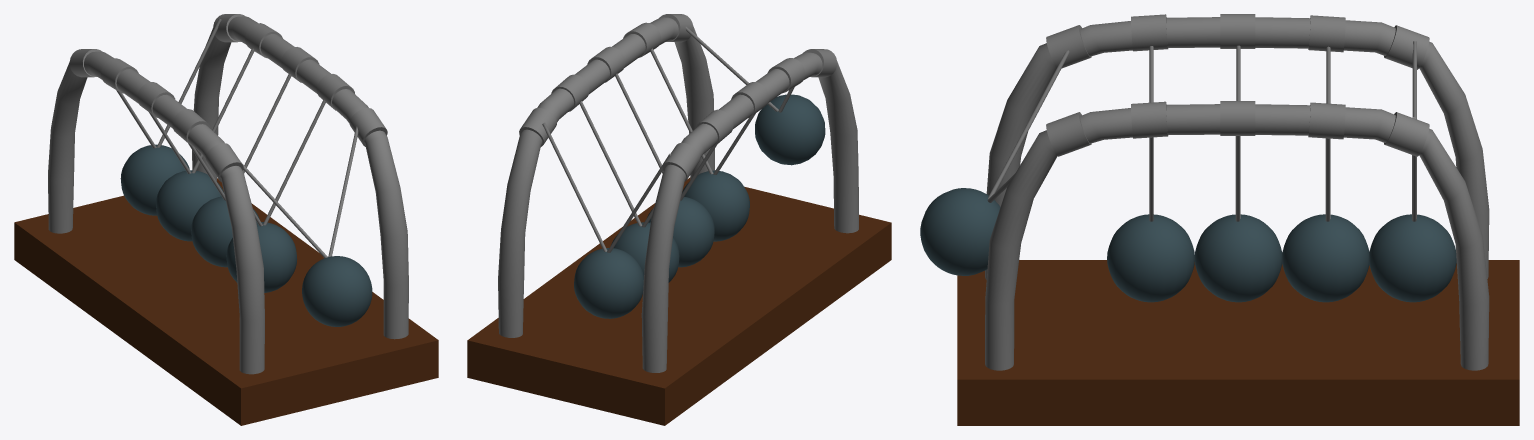
Rendered from NewtonsCradle.fbx.
3 renders of one model, left to right at view 1: azimuth 30°, elevation 25°; view 2: azimuth 150°, elevation 25°; view 3: azimuth 270°, elevation 25°, orthographic. The views are drawn at different scales.
Parts seen in each view (by area): view 1: pCylinder15; view 2: pCylinder15; view 3: pCylinder15.
Boxes of the visible parts, x1,y1,x2,y2 form: pCylinder15: [14, 14, 438, 425]; pCylinder15: [467, 14, 891, 425]; pCylinder15: [920, 14, 1519, 425].
Bounding box in the file's own units: 6.41 × 7.72 × 13.6.
